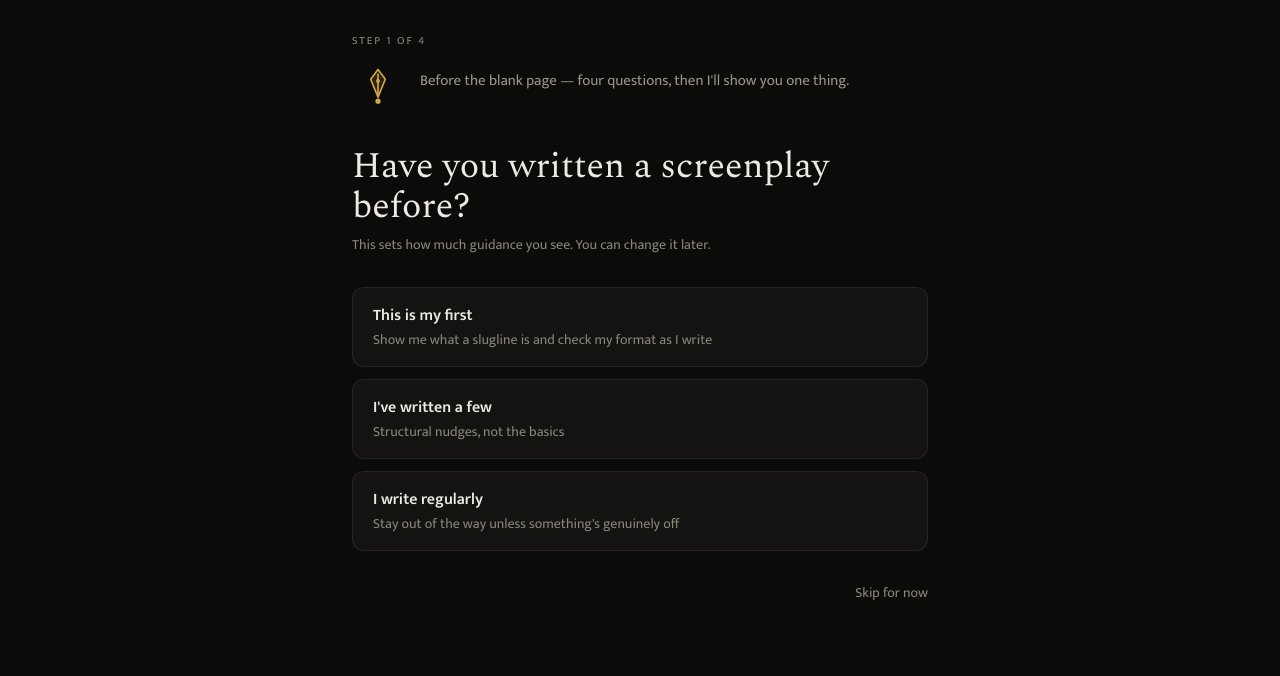
stepping through › goes back
Click the text "This is my first" at (423, 316), box x1=373 y1=302 x2=473 y2=329
(page scrolled)
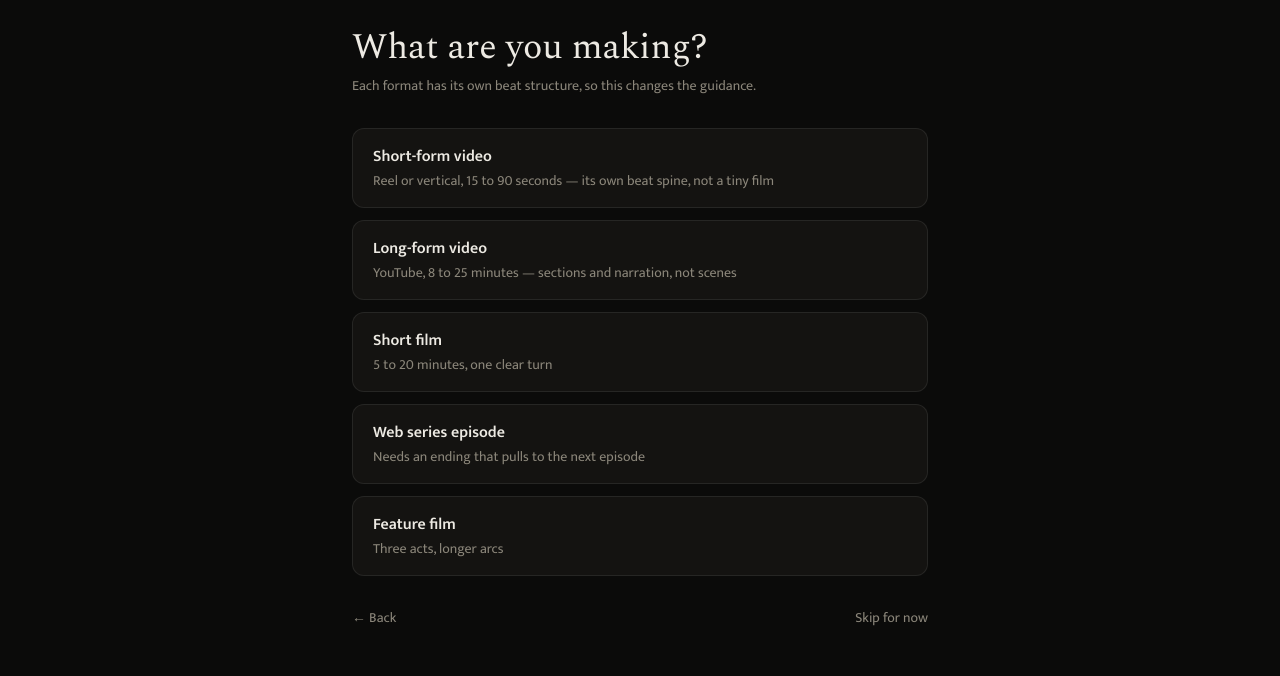
Click the button "← Back" at (374, 618), box x1=352 y1=608 x2=396 y2=628
(page scrolled)
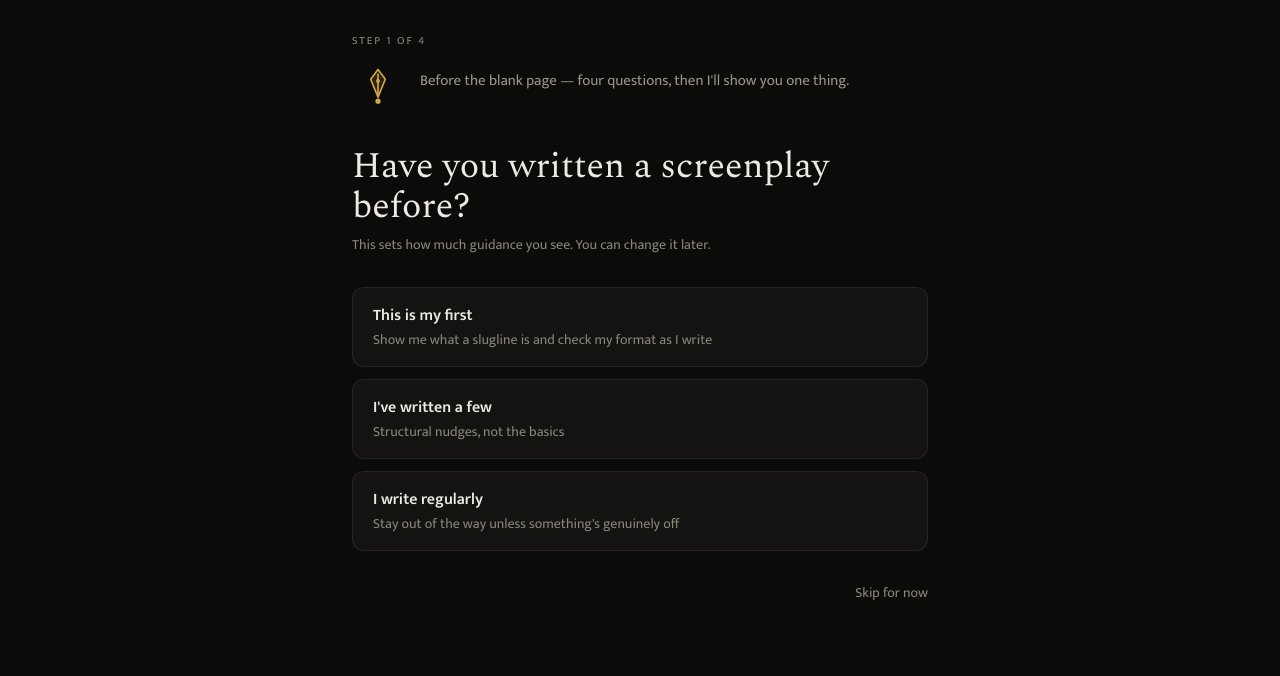
Expected: the text "Step 1 of 4" is shown, x1=352 y1=32 x2=426 y2=50
